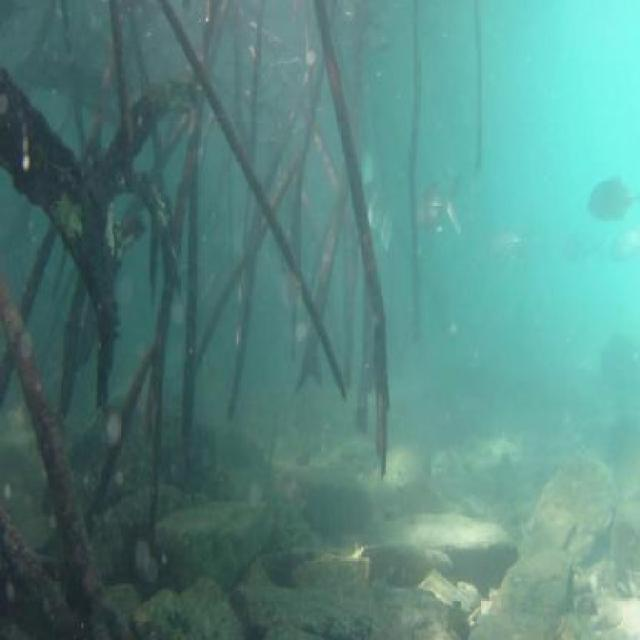Caranx_sexfasciatus_juvenile: (417, 171, 466, 240), (584, 170, 640, 226), (494, 218, 549, 268), (562, 224, 610, 270), (608, 226, 640, 274), (375, 211, 397, 264)
